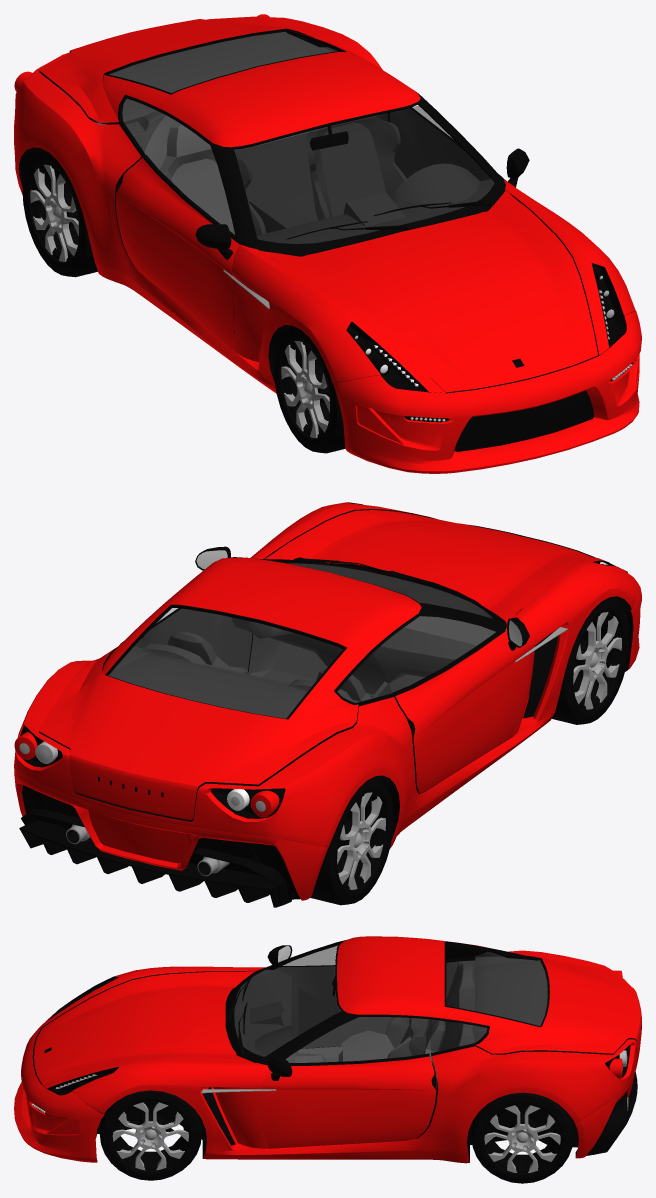
File: groti_carbonizzre.glb
The picture shows the model from 3 angles, top to bottom: view 1: azimuth 30°, elevation 25°; view 2: azimuth 150°, elevation 25°; view 3: azimuth 270°, elevation 25°; orthographic projection. The views are drawn at different scales.
Visible parts, largest first — view 1: Material3 (×19), Material2 (×2); view 2: Material3 (×20), Material2 (×2); view 3: Material3 (×22), Material2 (×2).
Boxes of the visible parts, bbox=[...] form: Material3 (×19): bbox=[14, 16, 641, 473]; Material2 (×2): bbox=[49, 31, 494, 243]; Material3 (×20): bbox=[14, 502, 641, 907]; Material2 (×2): bbox=[49, 563, 495, 740]; Material3 (×22): bbox=[14, 936, 641, 1183]; Material2 (×2): bbox=[234, 956, 617, 1093].
Bounding box in the file's own units: 334 × 206 × 719.
